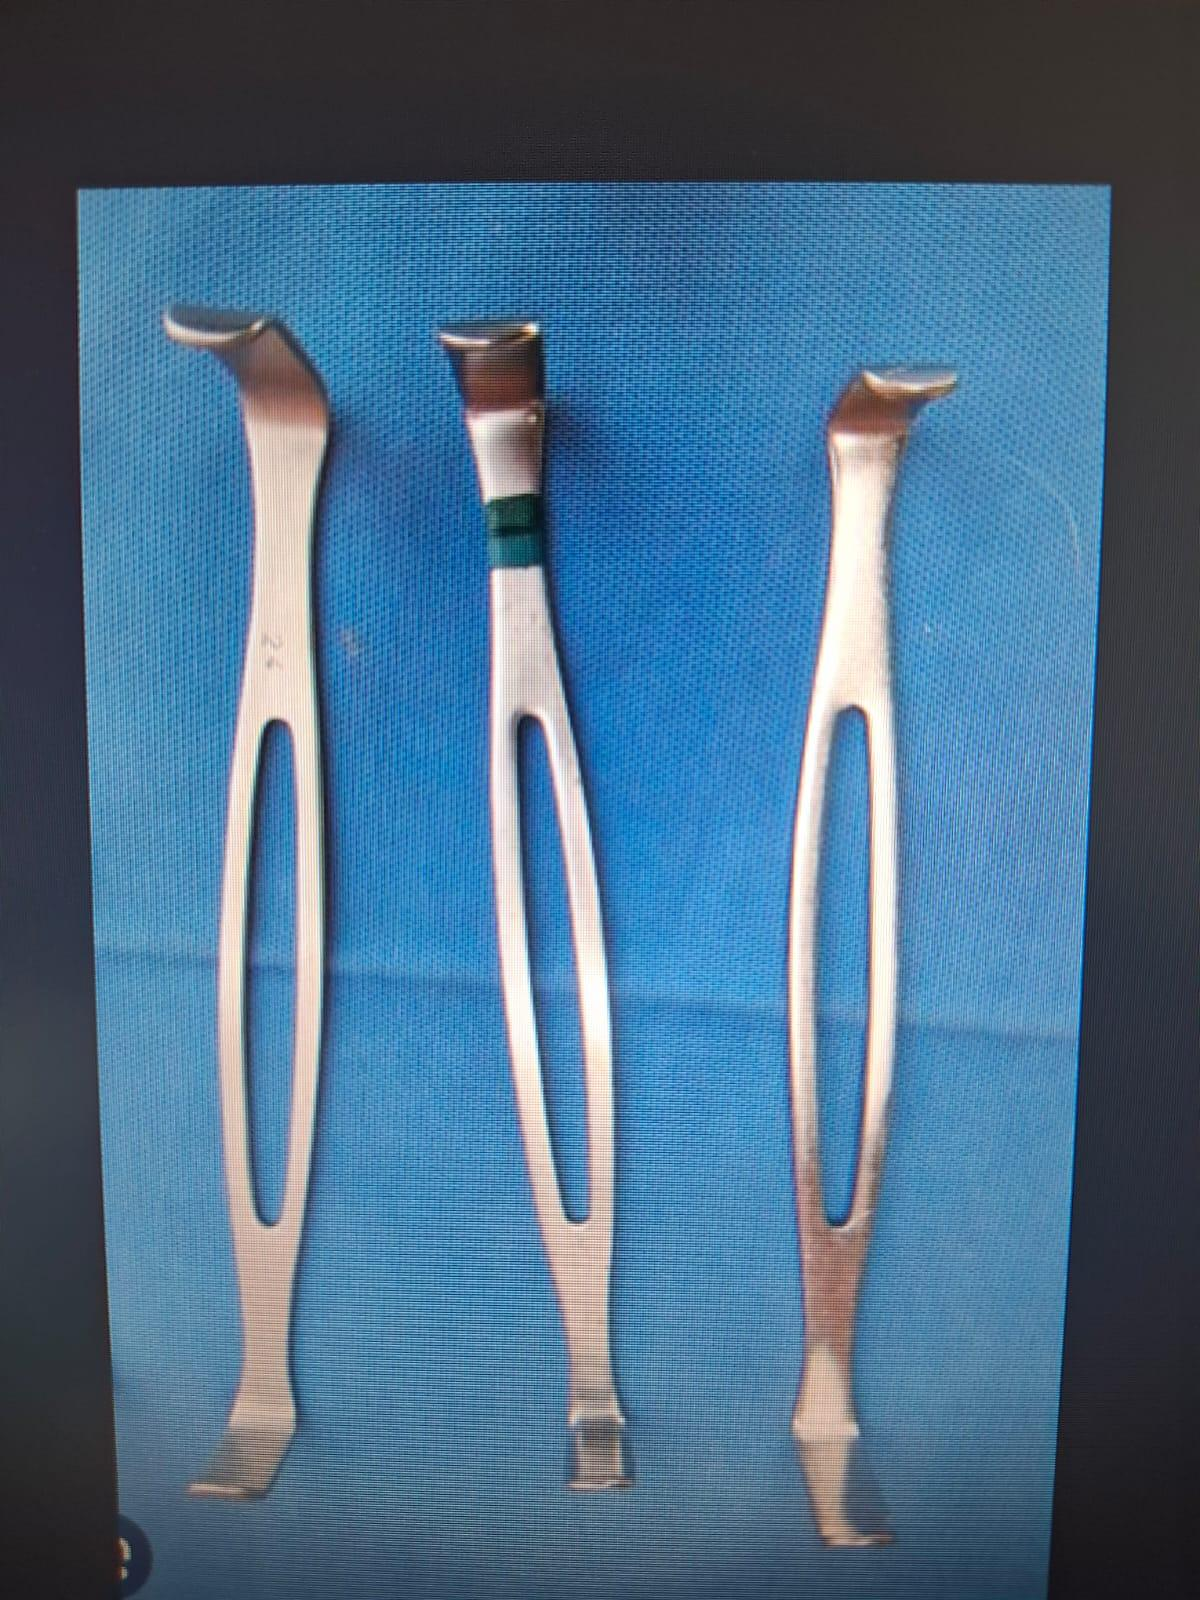Army Navy Retractor: (137, 272, 377, 1522), (758, 340, 973, 1580)
